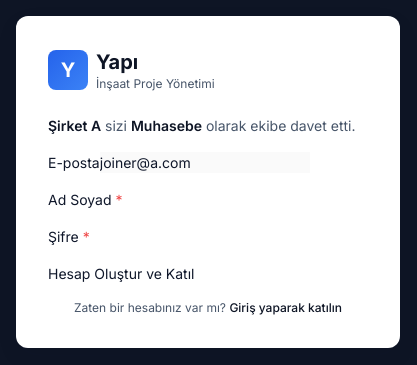
Test case: can switch to sign-in mode for an already-registered invitee
Later steps or results of the test are not shown.
Expected: the text "Şirket A" is shown, [48, 117, 101, 134]
Click the button "Giriş yaparak katılın": (286, 308) [229, 300, 342, 316]
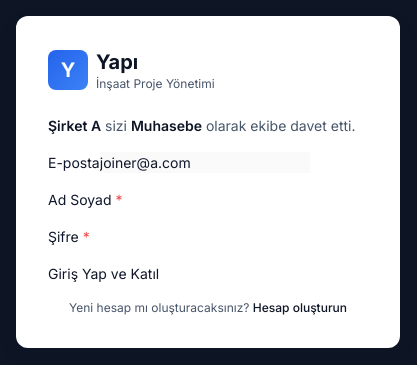
Now the button "Giriş Yap ve Katıl" is shown, box [48, 263, 159, 284]
